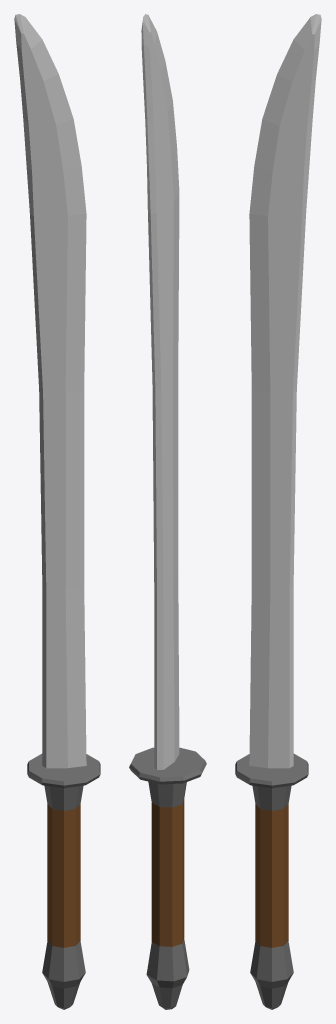
Rendered from Sword.fbx.
3 views of the same model, side by side, from view 1: azimuth 90°, elevation 25°; view 2: azimuth 150°, elevation 25°; view 3: azimuth 270°, elevation 25° (orthographic).
Visible parts, largest first — view 1: Dha; view 2: Dha; view 3: Dha.
Part boxes in pixels (box(x1,y1,x2,y2)): Dha: box(14, 14, 100, 1009); Dha: box(129, 14, 206, 1009); Dha: box(235, 14, 321, 1009).
Bounding box in the file's own units: 10.14 × 144 × 11.36.
